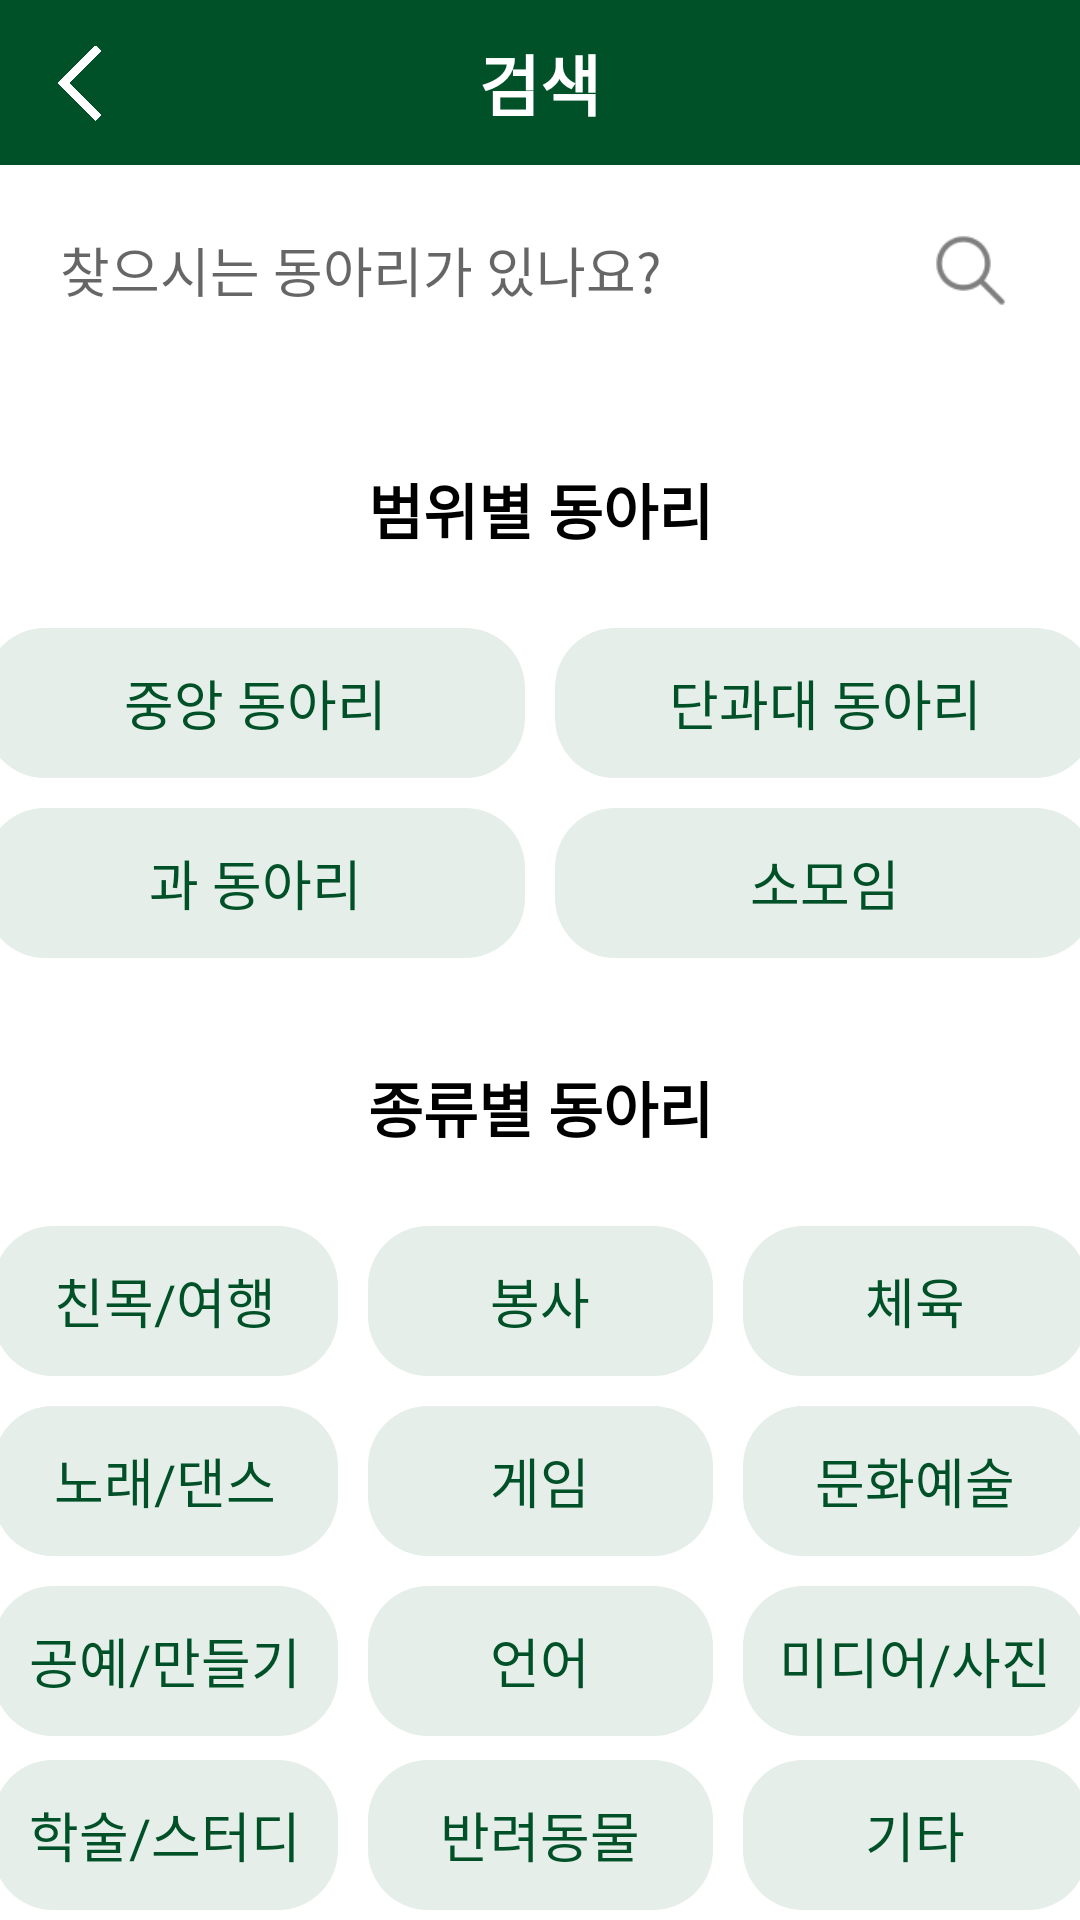

Named icons in this screenshot (1080*1920) and their centers, (x,y):
backward: (79,83)
searchbtn: (970,270)
